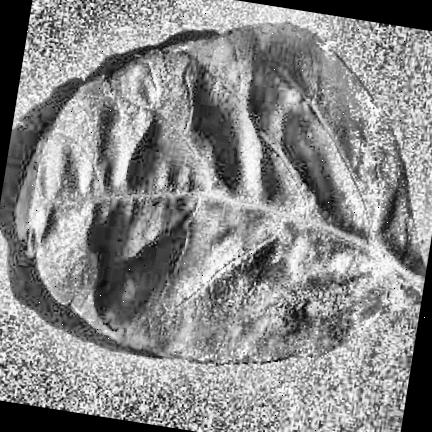leaf: (16, 23, 427, 364)
